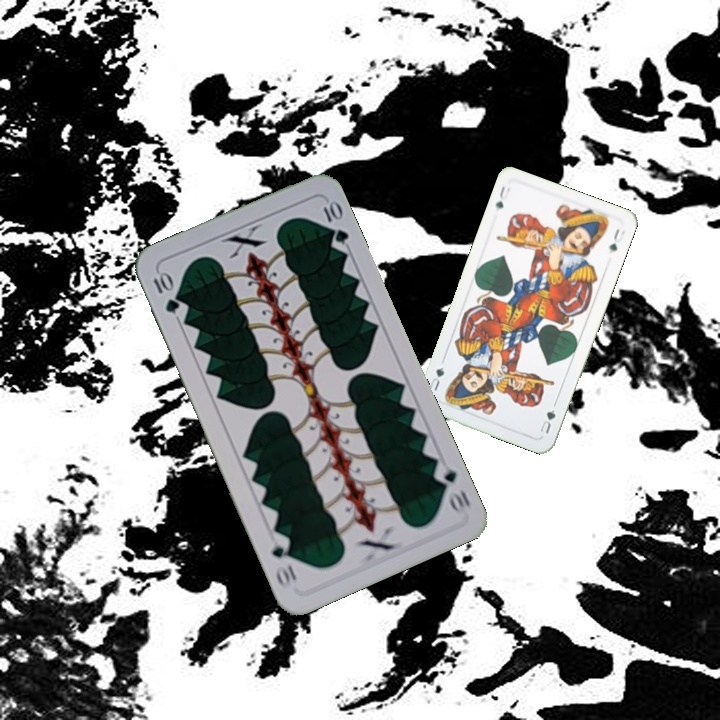G10: (429, 458, 473, 516), (149, 268, 182, 316)
GU: (536, 405, 558, 436), (491, 182, 513, 211)
